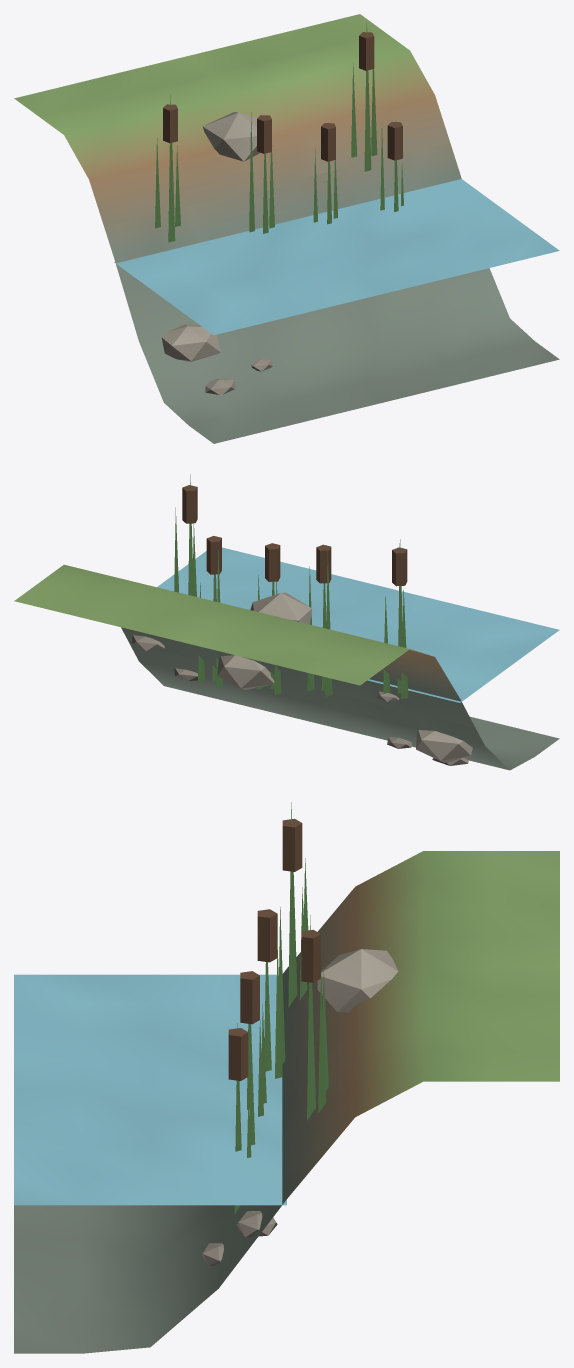
The model's file is bank.straight.glb.
3 views of the same model, one above another, from view 1: azimuth 30°, elevation 25°; view 2: azimuth 150°, elevation 25°; view 3: azimuth 270°, elevation 25° (orthographic). The views are drawn at different scales.
Visible parts, largest first — view 1: bank.straight.v0.land, bank.straight.v0.water, bank.straight.v1.land, bank.straight.v2.land; view 2: bank.straight.v0.land, bank.straight.v0.water, bank.straight.v1.land, bank.straight.v2.land; view 3: bank.straight.v0.land, bank.straight.v0.water, bank.straight.v1.land, bank.straight.v2.land.
Part boxes in pixels (x1,y1,x2,y2): bank.straight.v0.land: [14, 14, 559, 443]; bank.straight.v0.water: [114, 179, 559, 334]; bank.straight.v1.land: [104, 23, 461, 290]; bank.straight.v2.land: [161, 112, 272, 361]; bank.straight.v0.land: [14, 564, 559, 770]; bank.straight.v0.water: [157, 547, 559, 702]; bank.straight.v1.land: [129, 474, 509, 770]; bank.straight.v2.land: [121, 592, 475, 762]; bank.straight.v0.land: [14, 851, 559, 1353]; bank.straight.v0.water: [14, 974, 286, 1205]; bank.straight.v1.land: [228, 802, 328, 1233]; bank.straight.v2.land: [317, 949, 398, 1012].
Size of the model in its own units: 1 by 0.7776 by 1.
